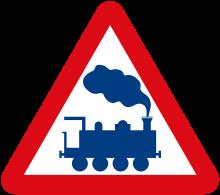Barrier Ahead: (10, 9, 212, 186)
